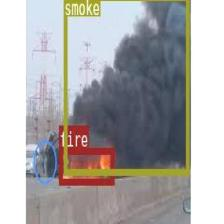fire: (58, 146, 114, 184)
smoke: (64, 0, 188, 174)
